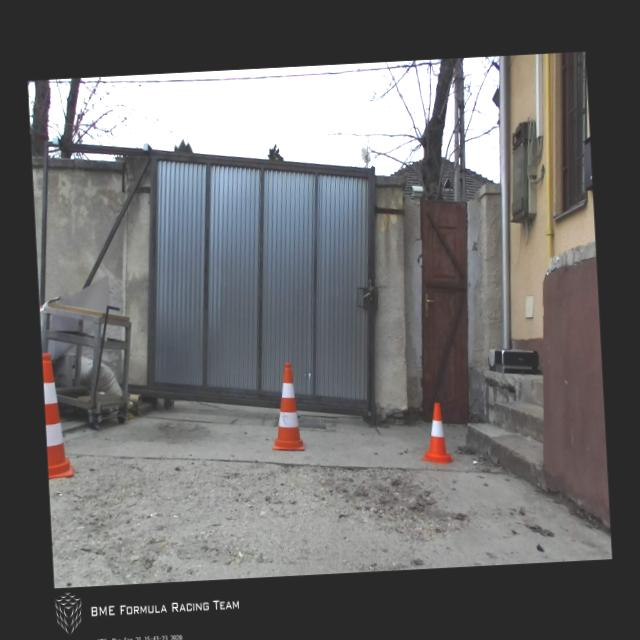large_orange_cone: (42, 352, 74, 479), (268, 362, 306, 453)
orange_cone: (418, 402, 454, 466)
